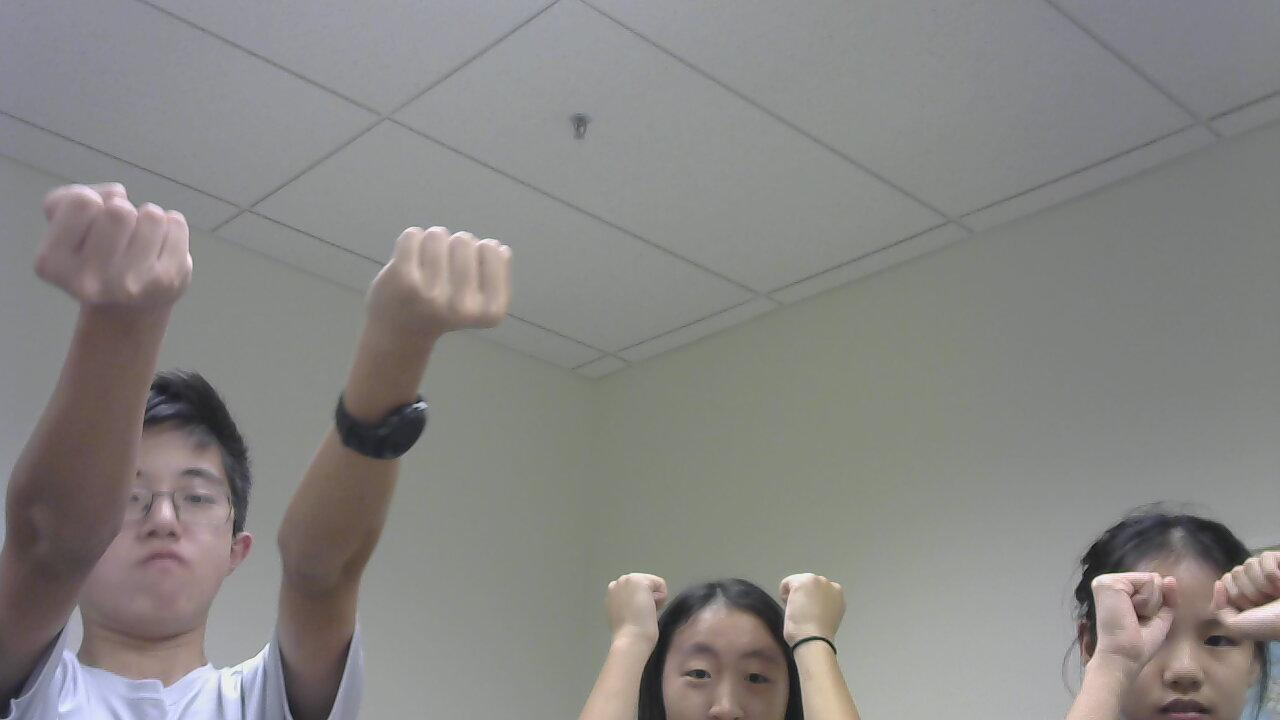fist: (18, 157, 236, 326), (376, 202, 550, 366), (1073, 562, 1187, 679), (586, 532, 684, 653), (761, 557, 855, 666), (1203, 541, 1280, 656)
